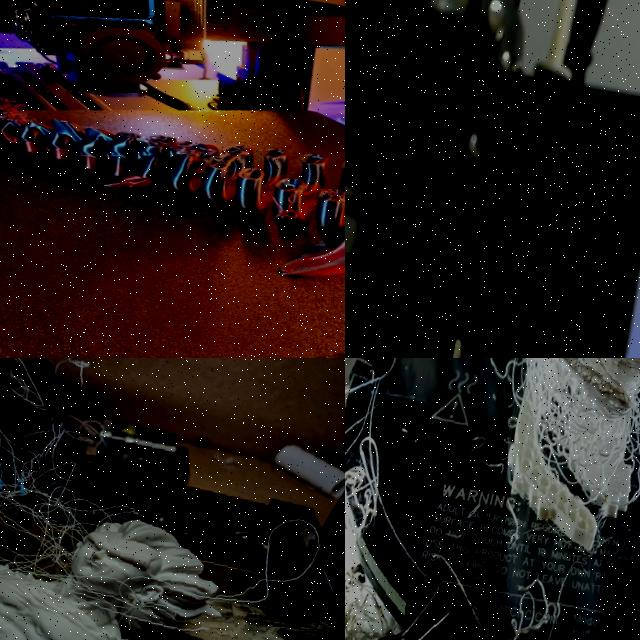spaghetti: (0, 358, 345, 640), (345, 358, 640, 640)
